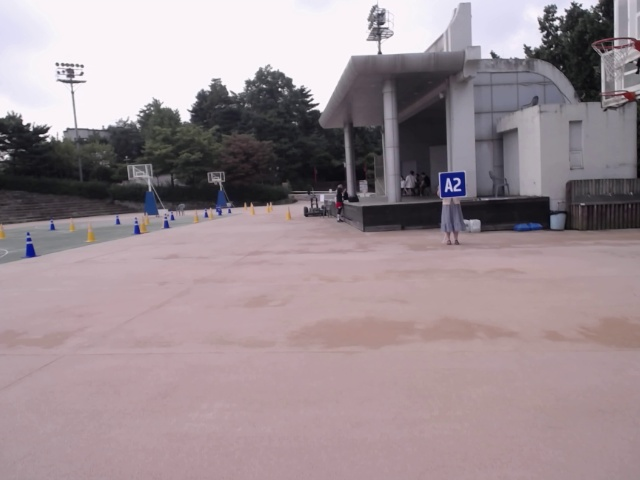delivery_a2: (440, 171, 466, 198)
